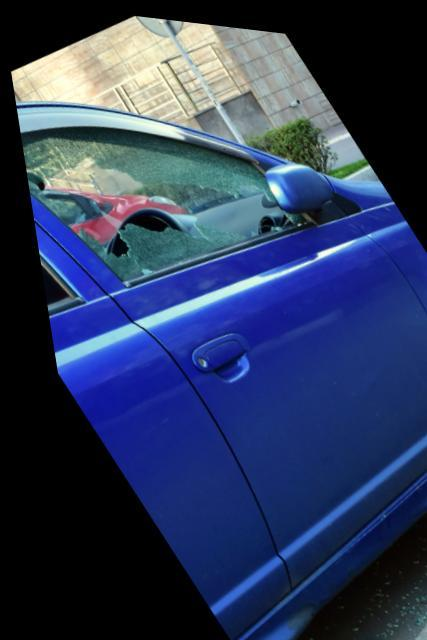glass shatter: (17, 128, 295, 279)
